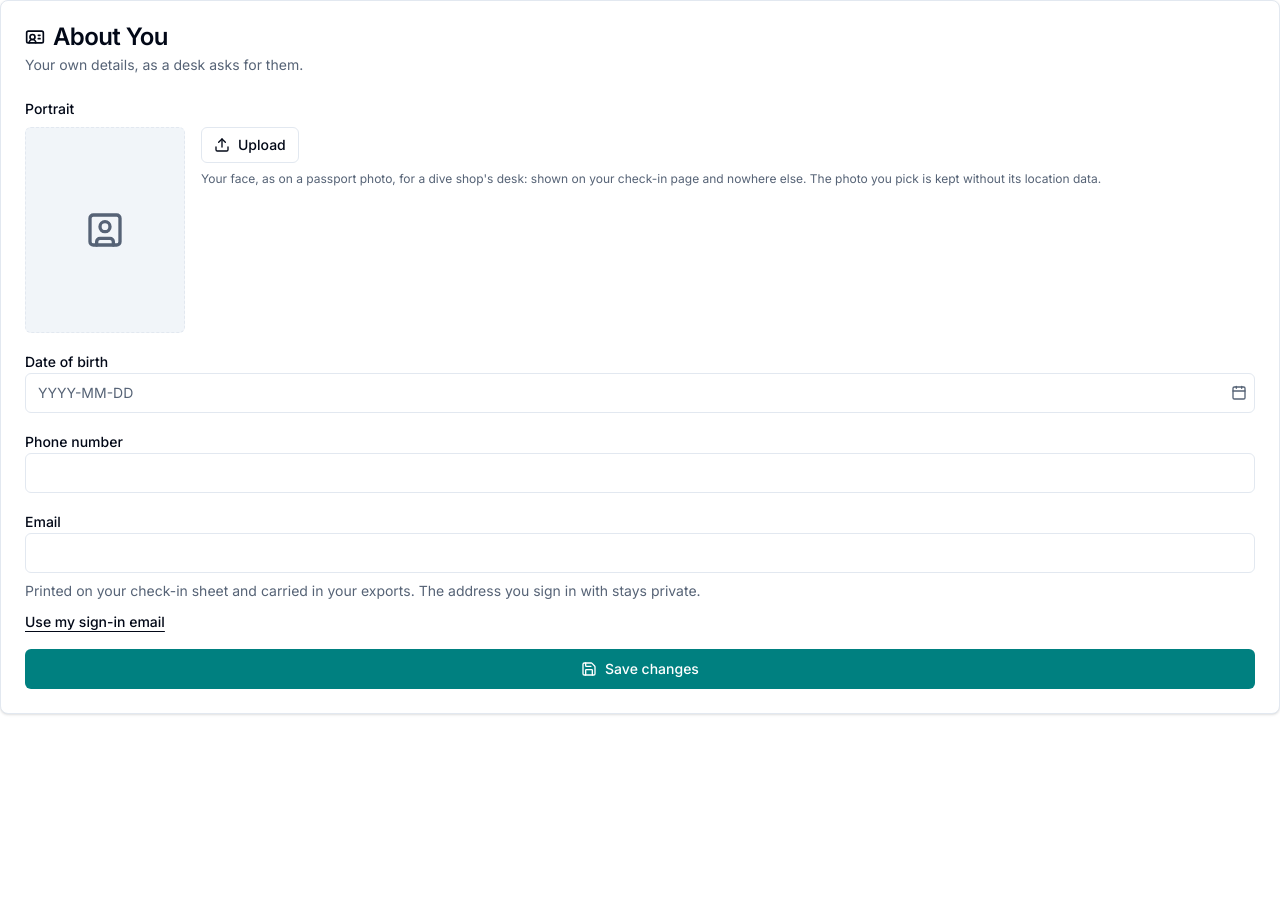
Test: AboutYouCard › says so when the save fails
Click the button "Save changes": click(640, 669) [25,649,1255,689]
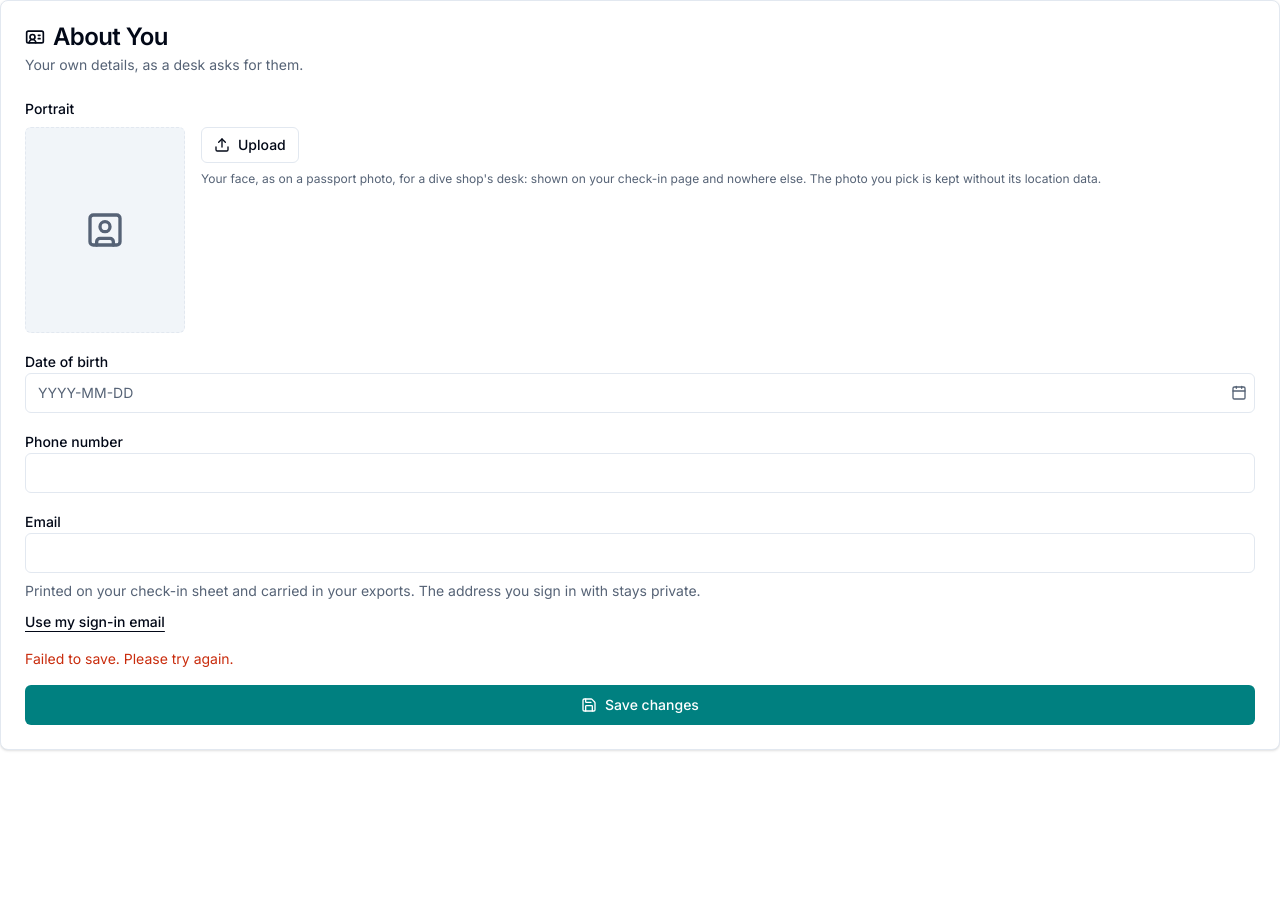
Now the text "Failed to save. Please try again." is shown, box [25,650,234,667]
